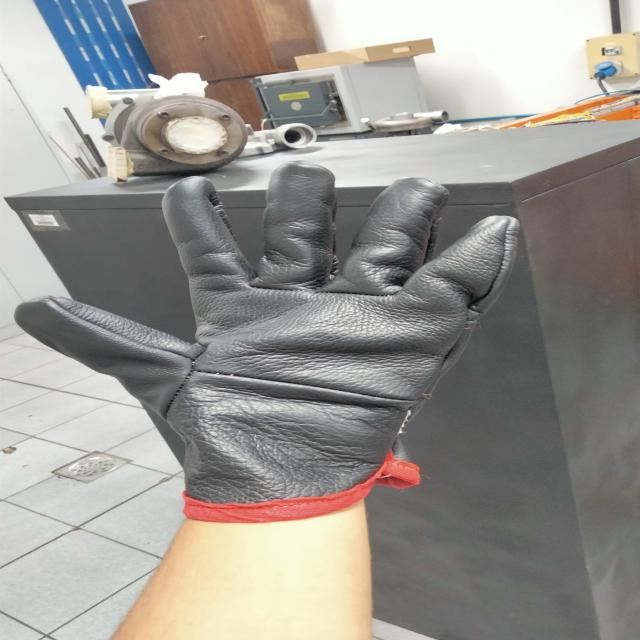Gloves: (25, 162, 537, 526)
